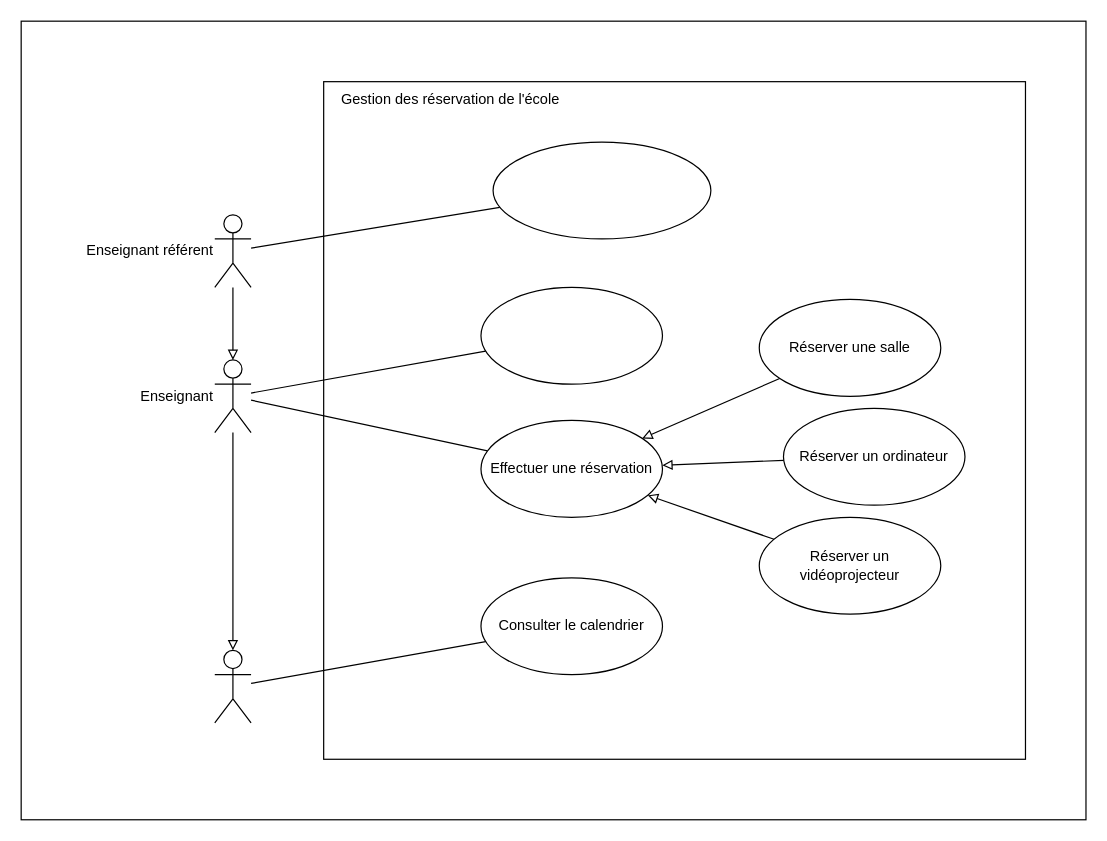
Some shapes in this 1107 by 841 pixel diagram are drawn without their labels. The centre of each missing label's shape, as x and y in pixels:
"Consulter le récapitulatif des heures" belongs at (571,335).
"Elève" belongs at (232,686).
"Modifier le récapitulatif des heures" belongs at (601,190).
